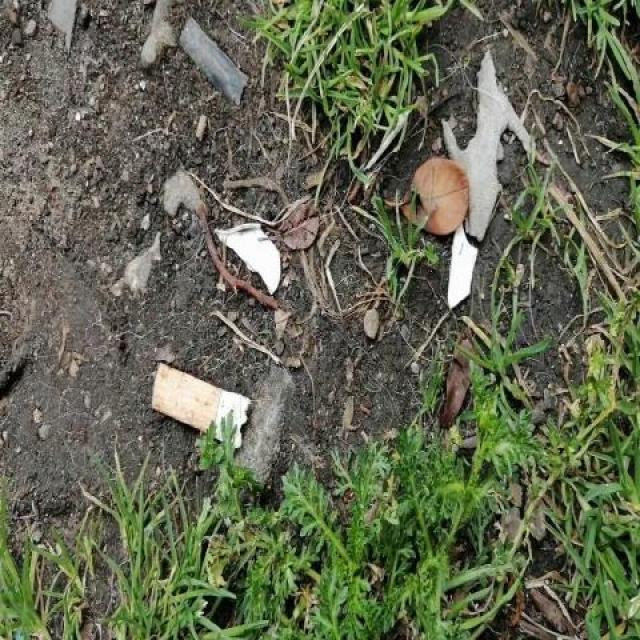non-organic waste: (149, 357, 255, 454)
